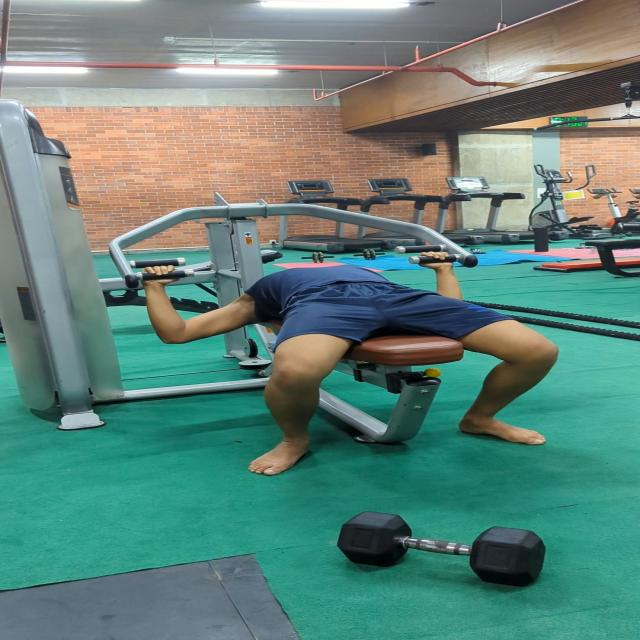Normal_BrenchPress: (104, 180, 600, 478)
